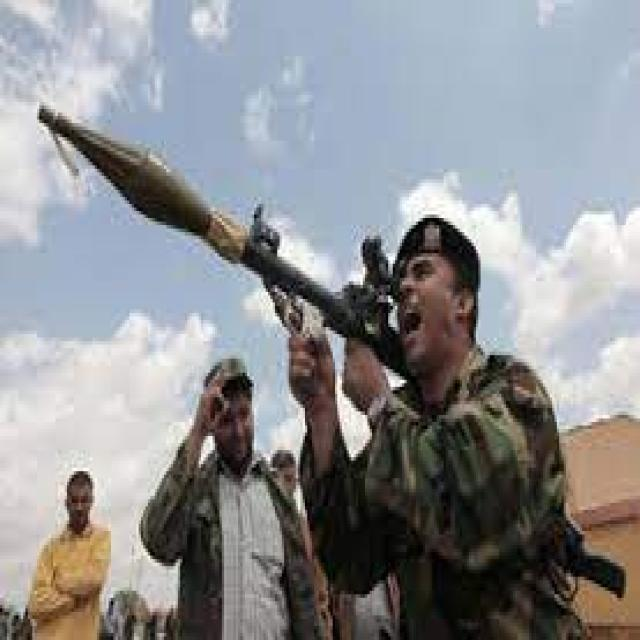bazooka: (7, 65, 443, 396)
